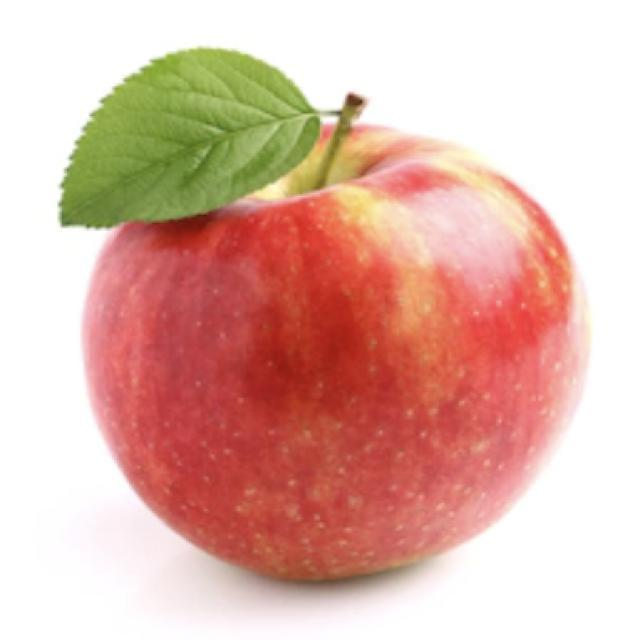Fresh Apple: (103, 152, 575, 573)
